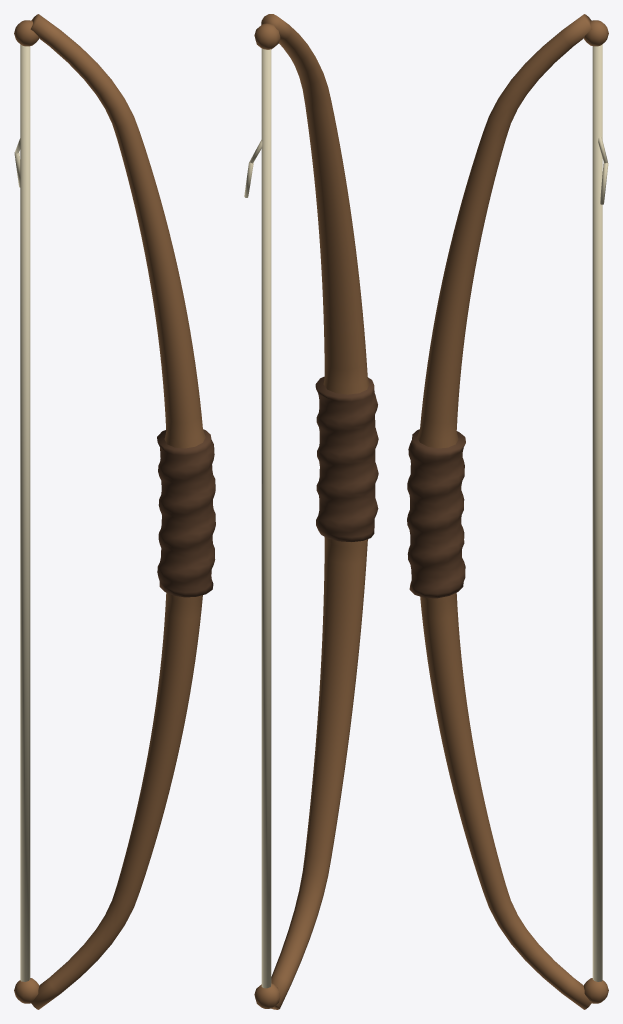
The model's file is Arc_P1.fbx.
The picture shows the model from 3 angles, left to right: view 1: azimuth 90°, elevation 25°; view 2: azimuth 150°, elevation 25°; view 3: azimuth 270°, elevation 25°; orthographic projection.
Visible parts, largest first — view 1: Arc_P1_Bois, Arc_P1_Corde, Arc_P1_Cuir; view 2: Arc_P1_Bois, Arc_P1_Corde, Arc_P1_Cuir; view 3: Arc_P1_Bois, Arc_P1_Corde, Arc_P1_Cuir.
Boxes of the visible parts, left/top/right/bottom form: Arc_P1_Bois: left=14, top=14, right=205, bottom=1009; Arc_P1_Corde: left=14, top=44, right=30, bottom=981; Arc_P1_Cuir: left=157, top=429, right=215, bottom=597; Arc_P1_Bois: left=254, top=14, right=369, bottom=1009; Arc_P1_Corde: left=244, top=48, right=271, bottom=988; Arc_P1_Cuir: left=315, top=376, right=378, bottom=541; Arc_P1_Bois: left=417, top=14, right=608, bottom=1009; Arc_P1_Corde: left=592, top=44, right=608, bottom=981; Arc_P1_Cuir: left=407, top=429, right=465, bottom=598.
Bounding box in the file's own units: 0.1516 × 2.64 × 0.4857.
